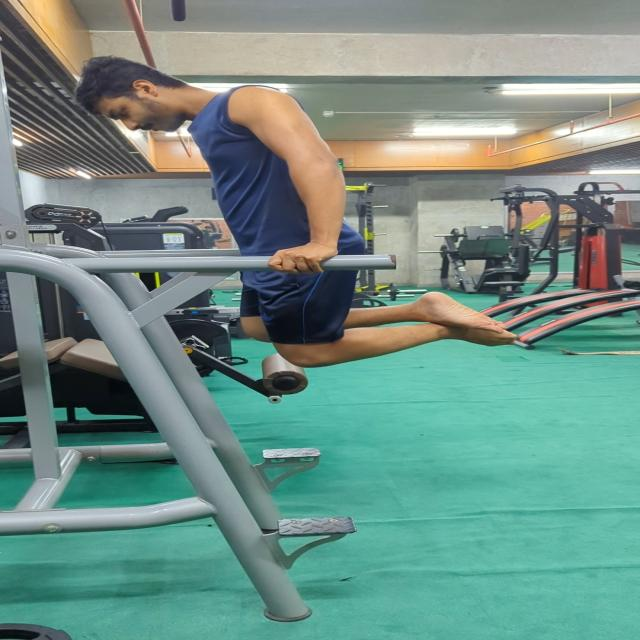Normal_Dips: (71, 50, 525, 373)
